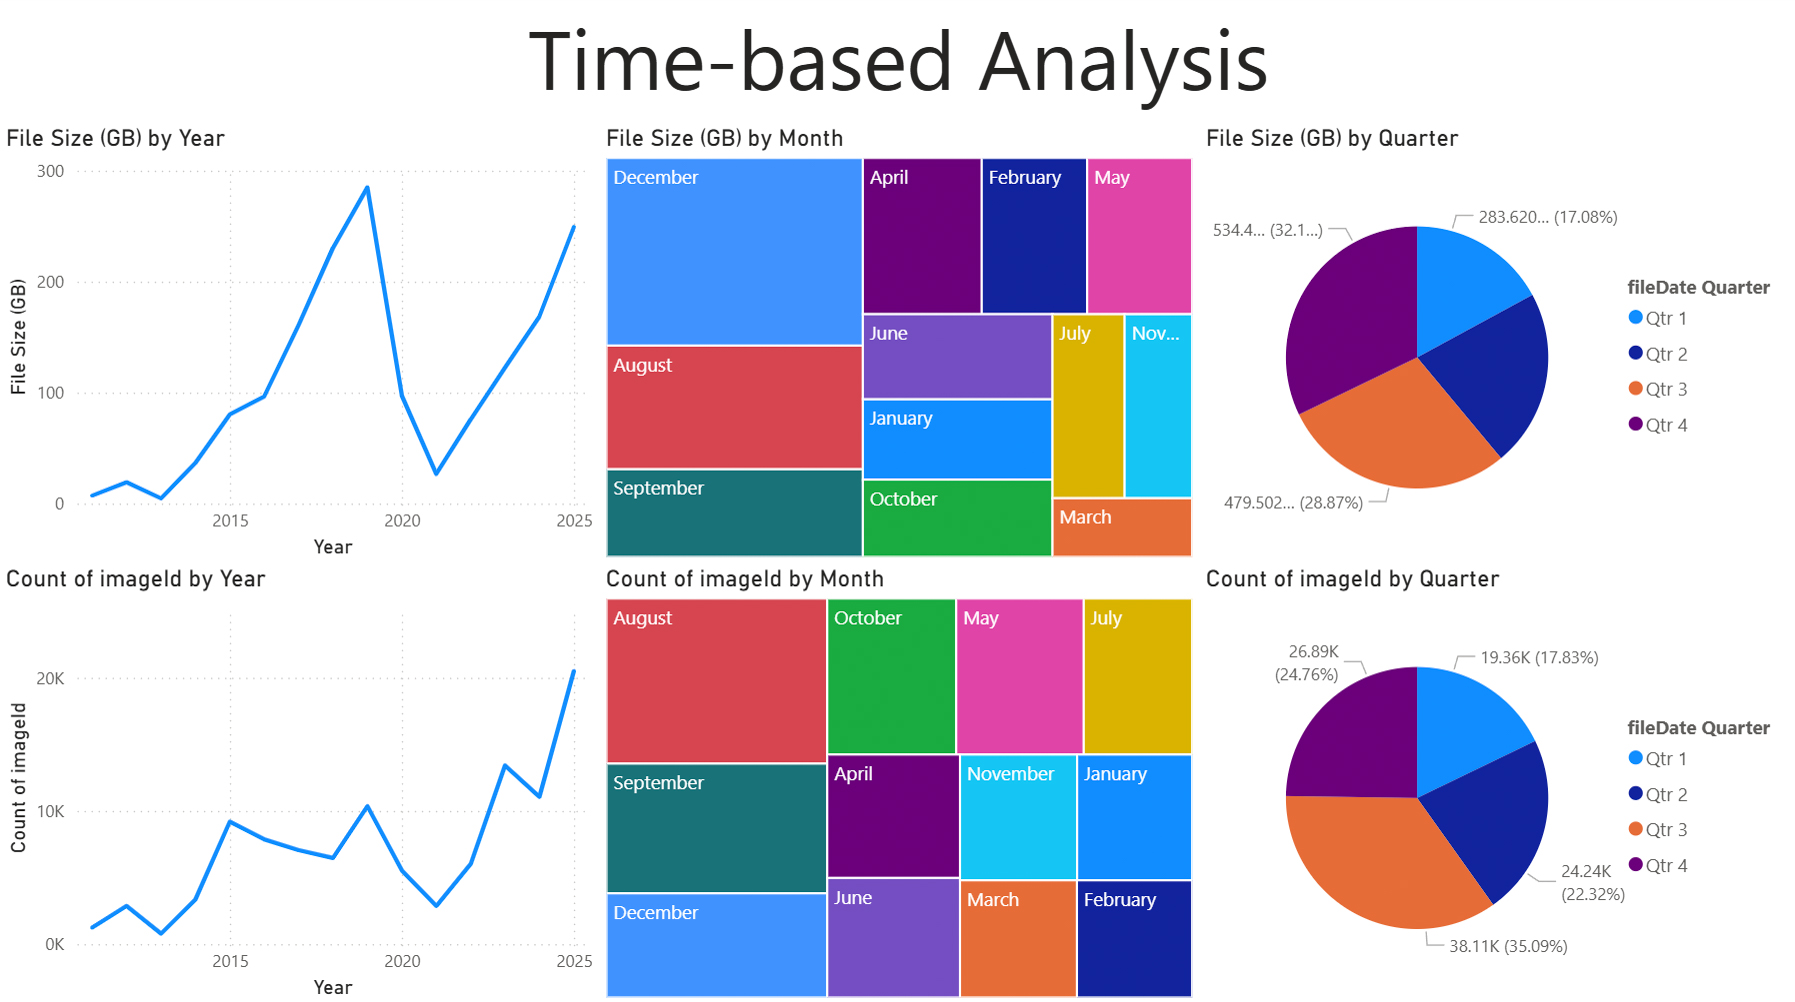

The dashboard page shown, as its layout file describes it:
{"tool":"powerbi","page":{"name":"Time-based Analysis","canvas":[1280,720],"ordinal":1},"visuals":[{"type":"group","id":"g1","title":"Group 1","box":[0,93.3,1280,626.8],"z":0},{"type":"lineChart","fields":{"Category":["files.fileDate.Variation.Date Hierarchy.Year"],"Y":["files.File Size (GB)"]},"box":[0,93.3,426.7,313.4],"z":0,"group":"g1"},{"type":"textbox","box":[0,0,1280,93.3],"z":1000},{"type":"lineChart","fields":{"Category":["files.fileDate.Variation.Date Hierarchy.Year"],"Y":["CountNonNull(files.imageId)"]},"box":[0,406.7,426.7,313.4],"z":1000,"group":"g1"},{"type":"treemap","fields":{"Group":["files.fileDate.Variation.Date Hierarchy.Month"],"Values":["files.File Size (GB)"]},"box":[426.7,93.3,426.7,313.4],"z":2000,"group":"g1"},{"type":"treemap","fields":{"Group":["files.fileDate.Variation.Date Hierarchy.Month"],"Values":["CountNonNull(files.imageId)"]},"box":[426.7,406.7,426.7,313.4],"z":3000,"group":"g1"},{"type":"pieChart","fields":{"Category":["files.fileDate.Variation.Date Hierarchy.Quarter"],"Y":["files.File Size (GB)"]},"box":[853.3,93.3,426.7,313.4],"z":4000,"group":"g1"},{"type":"pieChart","fields":{"Category":["files.fileDate.Variation.Date Hierarchy.Quarter"],"Y":["CountNonNull(files.imageId)"]},"box":[853.3,406.7,426.7,313.4],"z":5000,"group":"g1"}]}

Visuals, with their boxes in screenshot pixels (x1, y1, x2, y2), scaled from the page's 1280x720 canvas onto the 1795x1002 screenshot:
"Group 1" group: bbox(0, 130, 1794, 1001)
lineChart - files.fileDate.Variation.Date Hierarchy.Year x files.File Size (GB): bbox(0, 130, 598, 566)
textbox: bbox(0, 0, 1794, 130)
lineChart - files.fileDate.Variation.Date Hierarchy.Year x CountNonNull(files.imageId): bbox(0, 566, 598, 1001)
treemap - files.fileDate.Variation.Date Hierarchy.Month x files.File Size (GB): bbox(598, 130, 1197, 566)
treemap - files.fileDate.Variation.Date Hierarchy.Month x CountNonNull(files.imageId): bbox(598, 566, 1197, 1001)
pieChart - files.fileDate.Variation.Date Hierarchy.Quarter x files.File Size (GB): bbox(1197, 130, 1794, 566)
pieChart - files.fileDate.Variation.Date Hierarchy.Quarter x CountNonNull(files.imageId): bbox(1197, 566, 1794, 1001)
